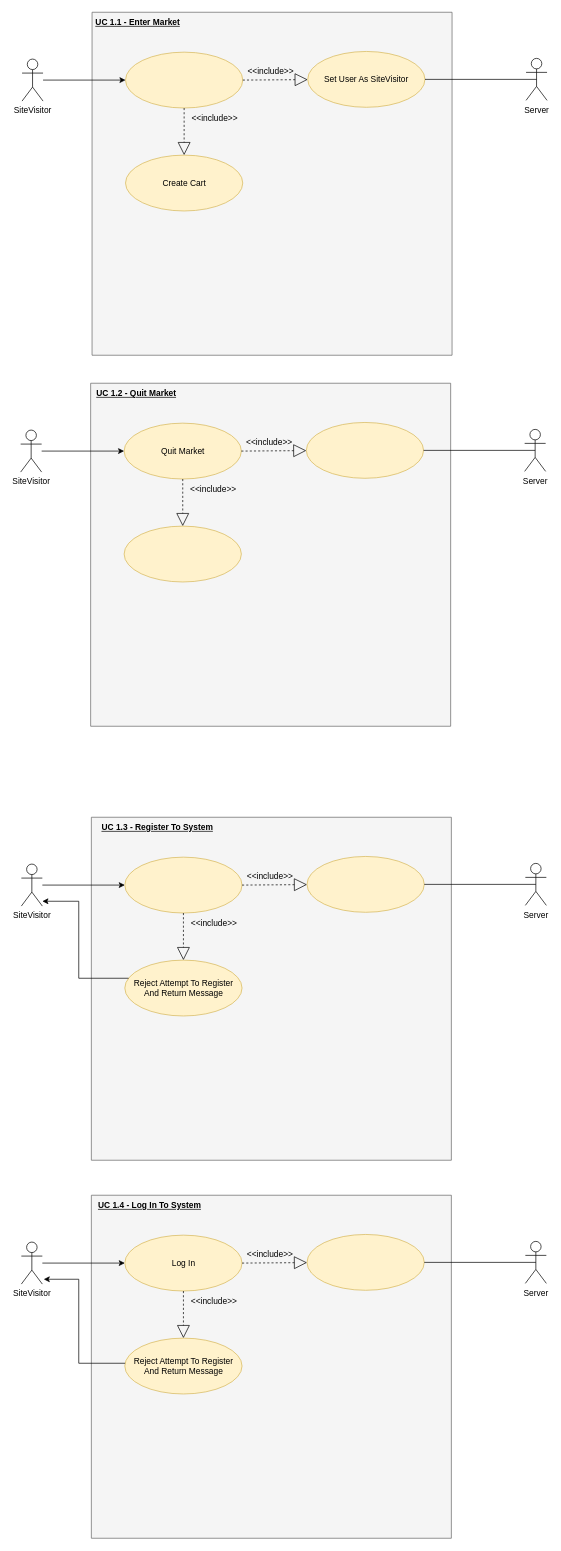
The diagram is 561 pixels wide and 1551 high, and some of its shapes have lost their labels. The shapes that lost their labels are listed below. From the top down, each one's centre as x and y in pixels, then its label:
point 184,79: Enter Market
point 365,450: Remove Visitor
point 182,553: Delete Cart
point 183,884: Register
point 365,884: Process Registration
point 365,1262: Process Log In
